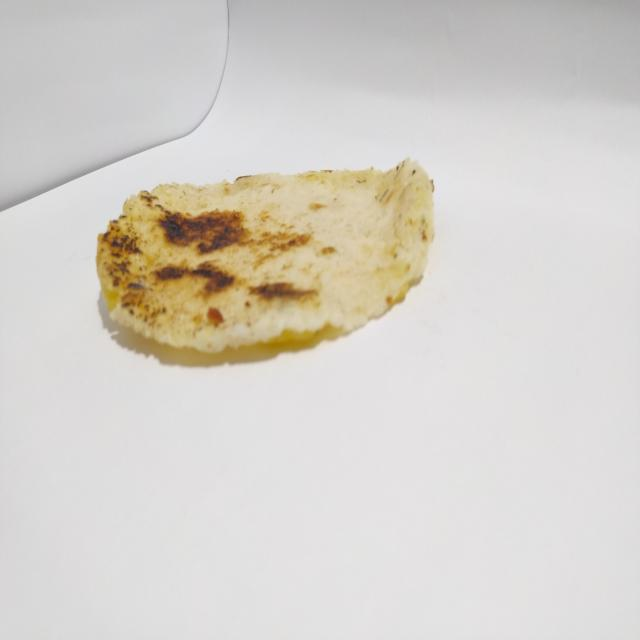Mbeju: (80, 149, 440, 365)
